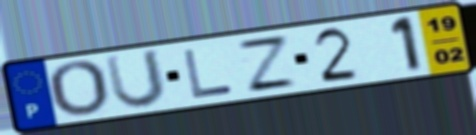1: (387, 14, 425, 74)
2: (311, 26, 361, 85)
L: (179, 47, 236, 100)
O: (44, 59, 112, 119)
U: (101, 47, 169, 111)
Z: (234, 34, 301, 94)
